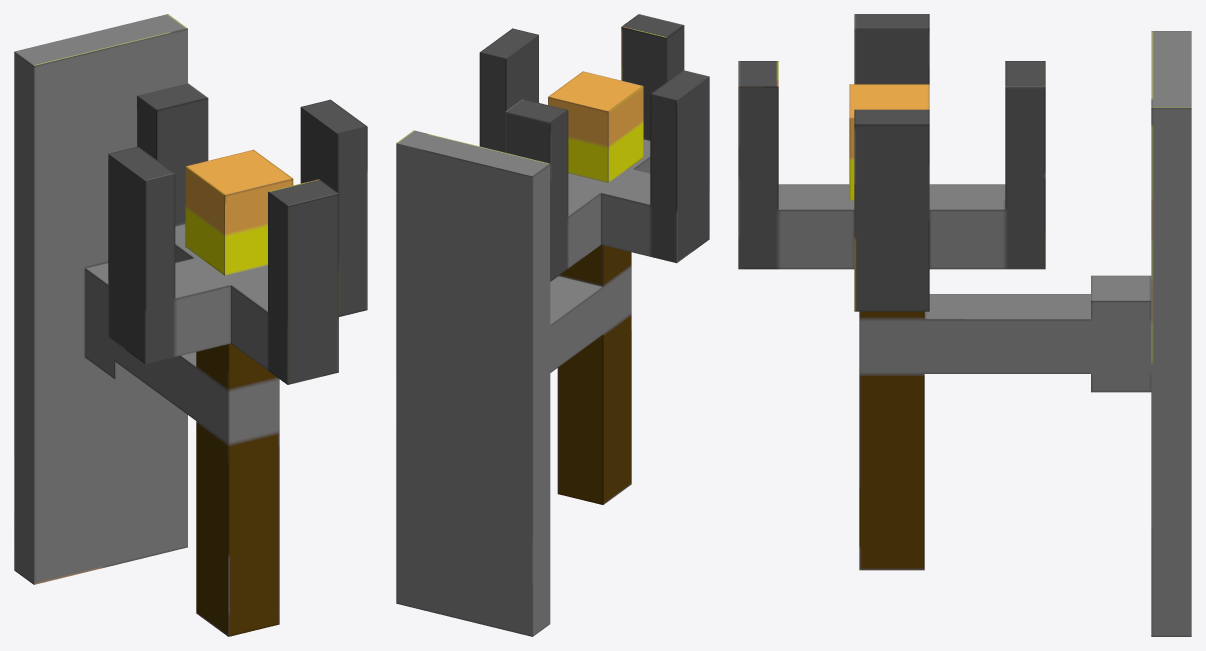
File: Torch.obj
3 renders of one model, left to right at view 1: azimuth 30°, elevation 25°; view 2: azimuth 150°, elevation 25°; view 3: azimuth 270°, elevation 25°, orthographic. The views are drawn at different scales.
Parts seen in each view (by area): view 1: Torch; view 2: Torch; view 3: Torch.
Part boxes in pixels (x1,y1,x2,y2): Torch: (14, 14, 367, 636); Torch: (396, 14, 709, 636); Torch: (738, 14, 1191, 636).
Size of the model in its own units: 5.2 by 11.6 by 9.
1 material, 1 textured.
